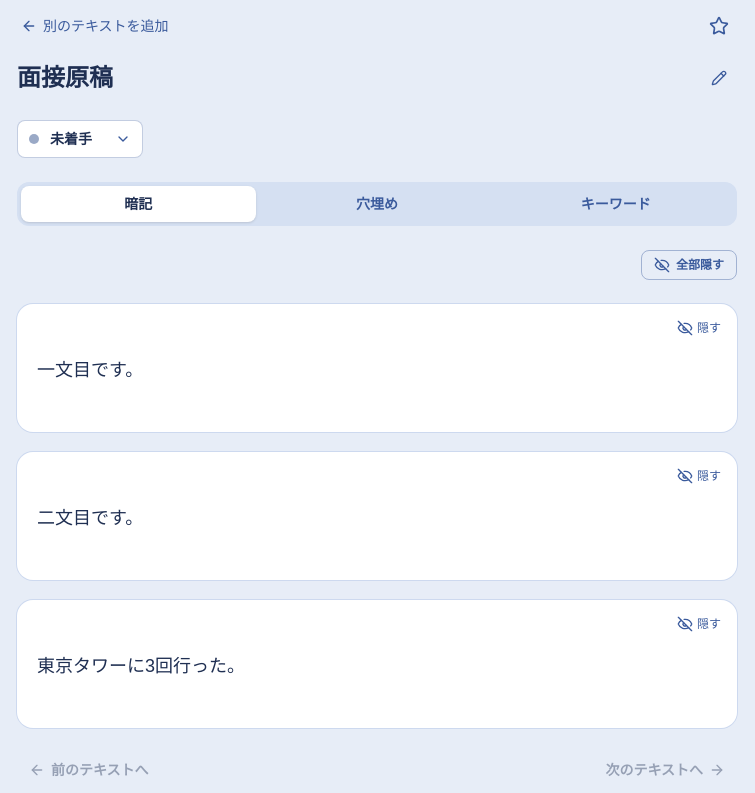
Test: PracticeScreen › 全部隠す/全部表示ボタンで全ブロックを一括切り替えできる
Click the button "全部隠す" at [689, 265], box 641,250 -> 737,280
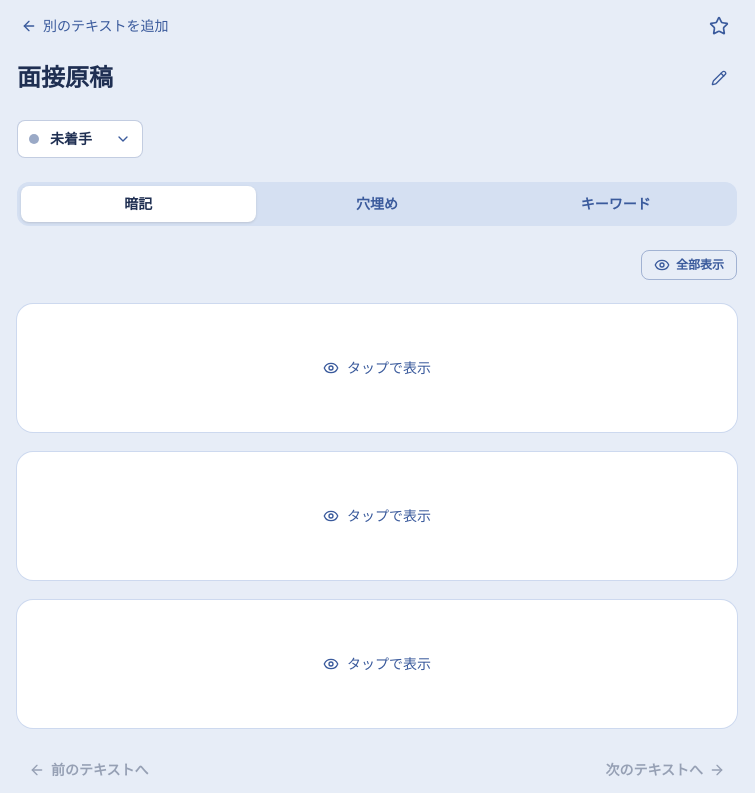
Check: the text "一文目です。" is gone
Check: the text "二文目です。" is gone
Click the button "全部表示" at [689, 265], box 641,250 -> 737,280
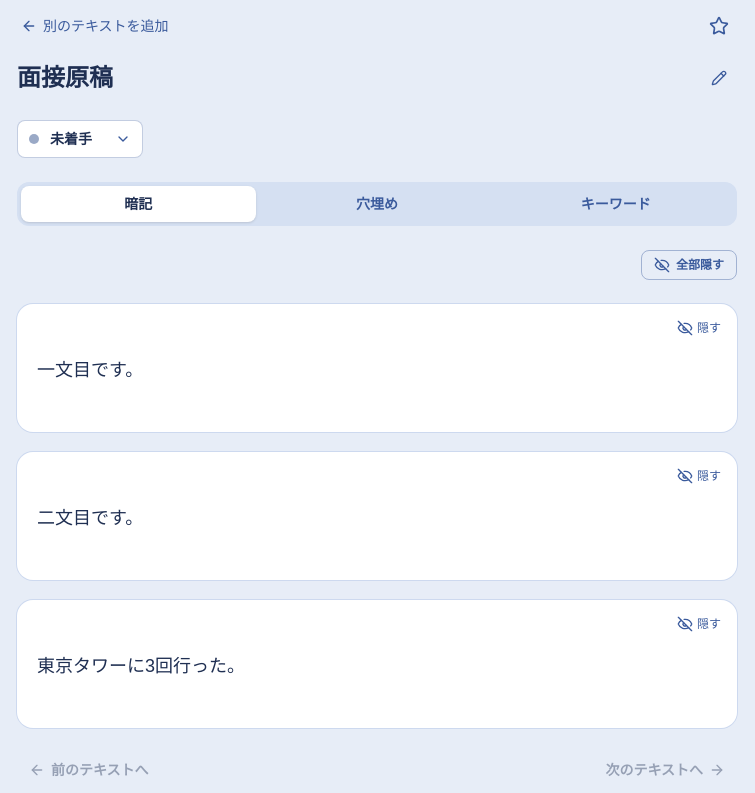
Check: the text "一文目です。" is shown, box 37,360 -> 143,380
Check: the text "二文目です。" is shown, box 37,508 -> 143,528
